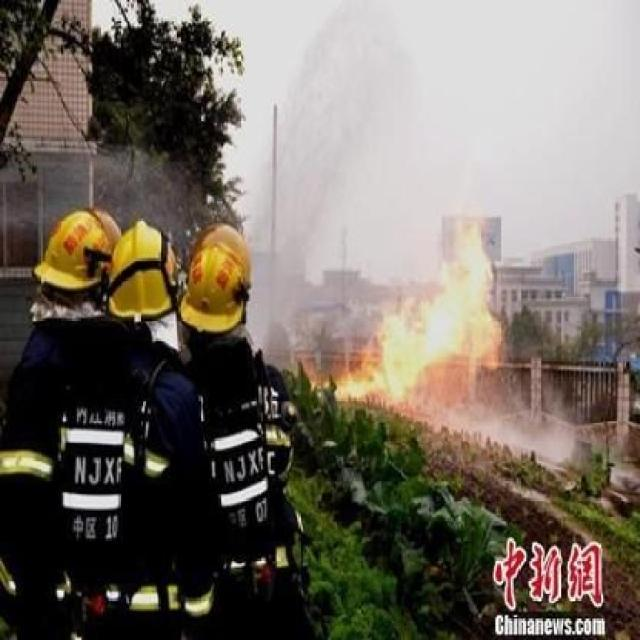Fire: (316, 220, 515, 401)
